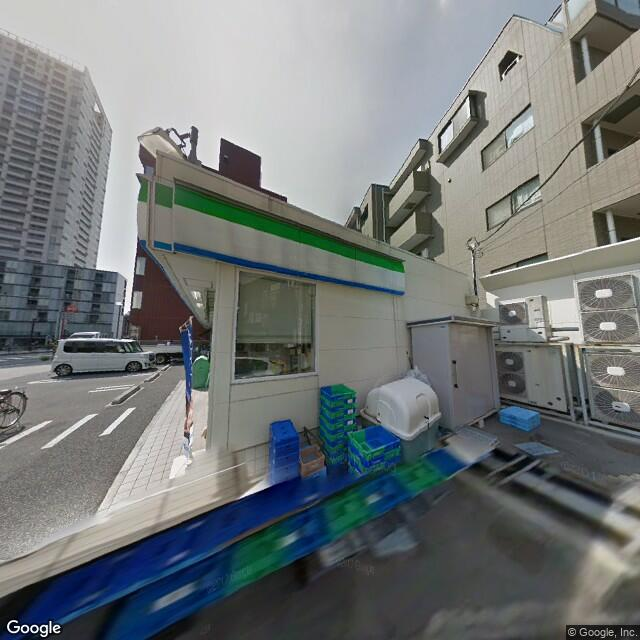family_mart: (153, 172, 408, 295)
